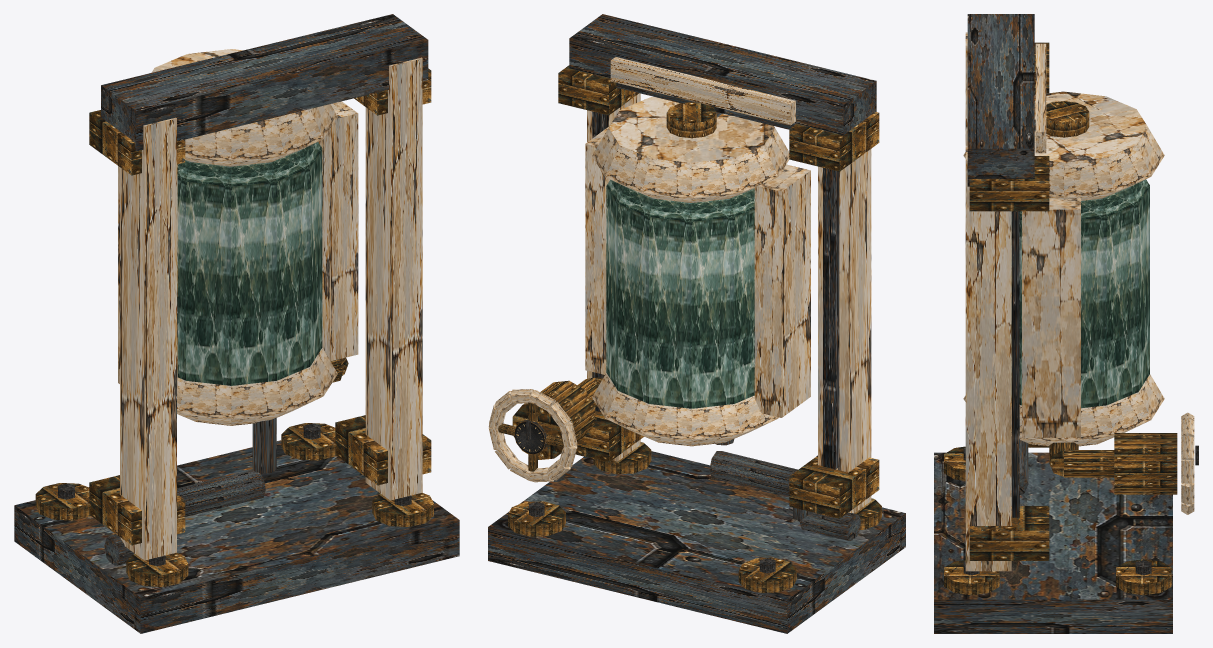
Rendered from clinical-abstract-capsule.gltf.
3 renders of one model, left to right at view 1: azimuth 30°, elevation 25°; view 2: azimuth 150°, elevation 25°; view 3: azimuth 270°, elevation 25°, orthographic. The views are drawn at different scales.
Visible parts, largest first — view 1: FloorPlinth, StockVolume, RearColumn_0.32, RearColumn_-0.32, Header, CapsuleSpine0.235, CapsuleCeramicCap0.37, CapsuleCeramicCap1.01, ColumnBracket_0.32_0.22, ColumnBracket_-0.32_0.22, FloorConduit_0, ColumnBracket_-0.32_1.14 (+7 smaller); view 2: FloorPlinth, StockVolume, Header, CapsuleCeramicCap1.01, CapsuleSpine-0.235, RearColumn_-0.32, CapsuleCeramicCap0.37, ColumnInset_-0.32, HeaderIvoryInlay, CapsuleSpine0.235, ColumnBracket_-0.32_0.22, ColumnBracket_-0.32_1.14 (+11 smaller); view 3: FloorPlinth, RearColumn_0.32, StockVolume, CapsuleSpine0.235, Header, CapsuleCeramicCap1.01, ValveHousing, ColumnBracket_0.32_0.22, CapsuleCeramicCap0.37, ColumnBracket_0.32_1.14, ColumnInset_0.32, FloorFlange_0.32_-0.19 (+7 smaller).
Boxes of the visible parts, x1=… form: FloorPlinth: x1=14, y1=440, x2=459, y2=633; StockVolume: x1=177, y1=142, x2=322, y2=385; RearColumn_0.32: x1=365, y1=57, x2=422, y2=500; RearColumn_-0.32: x1=120, y1=117, x2=176, y2=560; Header: x1=101, y1=14, x2=428, y2=151; CapsuleSpine0.235: x1=318, y1=101, x2=358, y2=361; CapsuleCeramicCap0.37: x1=177, y1=348, x2=337, y2=425; CapsuleCeramicCap1.01: x1=151, y1=49, x2=337, y2=166; ColumnBracket_0.32_0.22: x1=335, y1=415, x2=431, y2=485; ColumnBracket_-0.32_0.22: x1=89, y1=475, x2=185, y2=545; FloorConduit_0: x1=177, y1=470, x2=265, y2=516; ColumnBracket_-0.32_1.14: x1=89, y1=110, x2=185, y2=175; FloorPlinth: x1=488, y1=451, x2=905, y2=633; StockVolume: x1=606, y1=179, x2=754, y2=408; Header: x1=569, y1=14, x2=876, y2=135; CapsuleCeramicCap1.01: x1=592, y1=97, x2=789, y2=202; CapsuleSpine-0.235: x1=754, y1=164, x2=810, y2=417; RearColumn_-0.32: x1=818, y1=149, x2=871, y2=513; CapsuleCeramicCap0.37: x1=592, y1=373, x2=778, y2=446; ColumnInset_-0.32: x1=823, y1=168, x2=839, y2=469; HeaderIvoryInlay: x1=610, y1=57, x2=795, y2=125; CapsuleSpine0.235: x1=585, y1=126, x2=610, y2=374; ColumnBracket_-0.32_0.22: x1=789, y1=455, x2=879, y2=518; ColumnBracket_-0.32_1.14: x1=789, y1=112, x2=879, y2=171; FloorPlinth: x1=934, y1=452, x2=1172, y2=633; RearColumn_0.32: x1=965, y1=145, x2=1011, y2=571; StockVolume: x1=1011, y1=179, x2=1149, y2=408; CapsuleSpine0.235: x1=1022, y1=198, x2=1080, y2=437; Header: x1=967, y1=14, x2=1034, y2=186; CapsuleCeramicCap1.01: x1=963, y1=91, x2=1164, y2=200; ValveHousing: x1=1114, y1=433, x2=1177, y2=494; ColumnBracket_0.32_0.22: x1=969, y1=506, x2=1049, y2=560; CapsuleCeramicCap0.37: x1=963, y1=374, x2=1164, y2=446; ColumnBracket_0.32_1.14: x1=969, y1=156, x2=1049, y2=211; ColumnInset_0.32: x1=1012, y1=211, x2=1019, y2=517; FloorFlange_0.32_-0.19: x1=1116, y1=559, x2=1171, y2=595.
Bounding box in the file's own units: 0.83 × 1.26 × 0.6315.
Materials: 7 (7 with a texture image).
